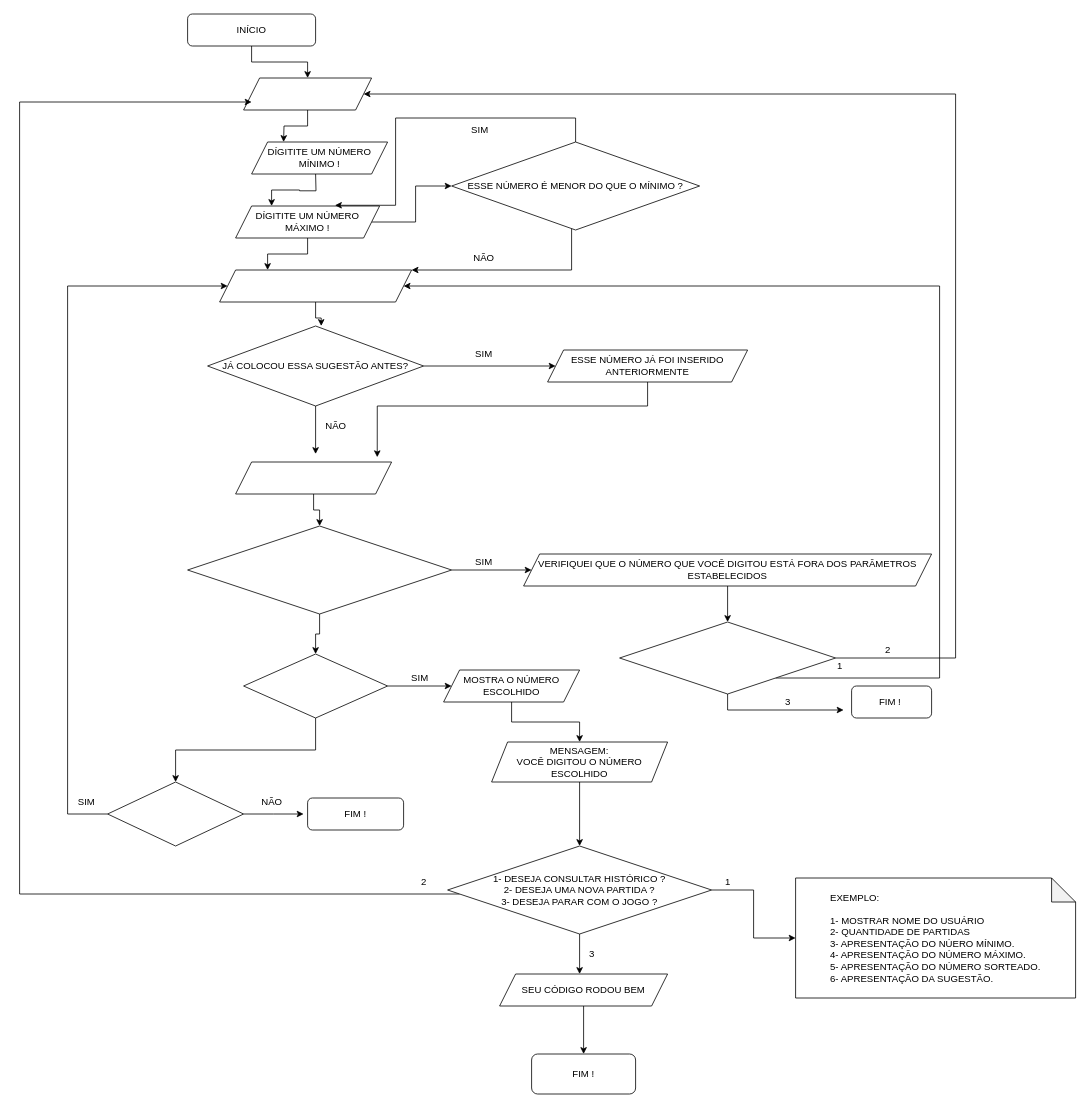
Some shapes in this 1090 by 1108 pixel diagram are drawn without their labels. The centre of each missing label's shape, as x and y in pixels:
"1- DESEJA CONTINUAR? 2´- DESEJA REDEFINIR VALORES? 3- DESEJA PARAR?" belongs at (x=727, y=657).
"A SUGESTÃO É MENOR DO QUE O MÍNIMO OU MAOIR DO QUE O MÃXIMO" belongs at (x=319, y=569).
"ACERTOU A SUGESTÃO ?" belongs at (x=315, y=685).
"DESEJA CONTINUAR ?" belongs at (x=175, y=813).
"DIGITE UMA SUGESTÃO PARA O SORTEIO !" belongs at (x=315, y=285).
"NÚMERO DE TENTATIVAS" belongs at (x=313, y=477).
"QUAL O SEU NOME?" belongs at (x=307, y=93).
